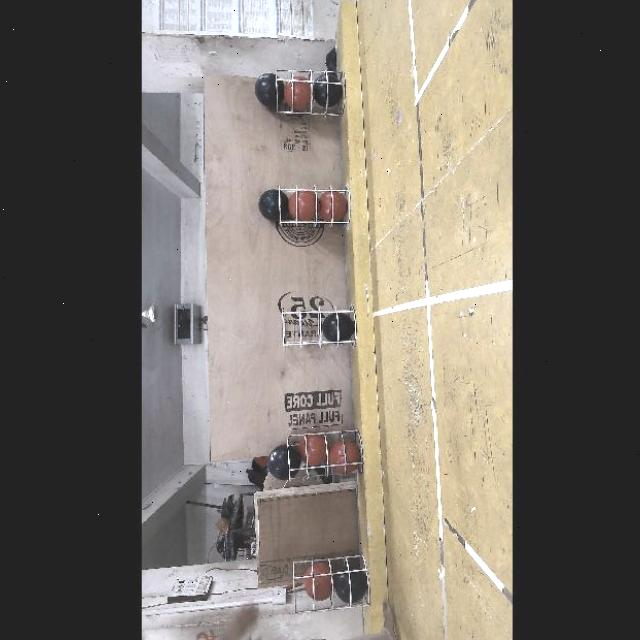P: (267, 445, 301, 481), (254, 73, 284, 108), (336, 568, 366, 602), (258, 189, 289, 220), (284, 76, 310, 112), (313, 74, 342, 106), (323, 314, 353, 342)
R: (328, 441, 362, 474), (304, 564, 332, 600), (300, 434, 330, 466), (290, 188, 316, 222), (318, 192, 344, 222)
S: (281, 422, 367, 478), (286, 555, 368, 609), (268, 65, 346, 119), (275, 302, 359, 348), (276, 182, 350, 232)
